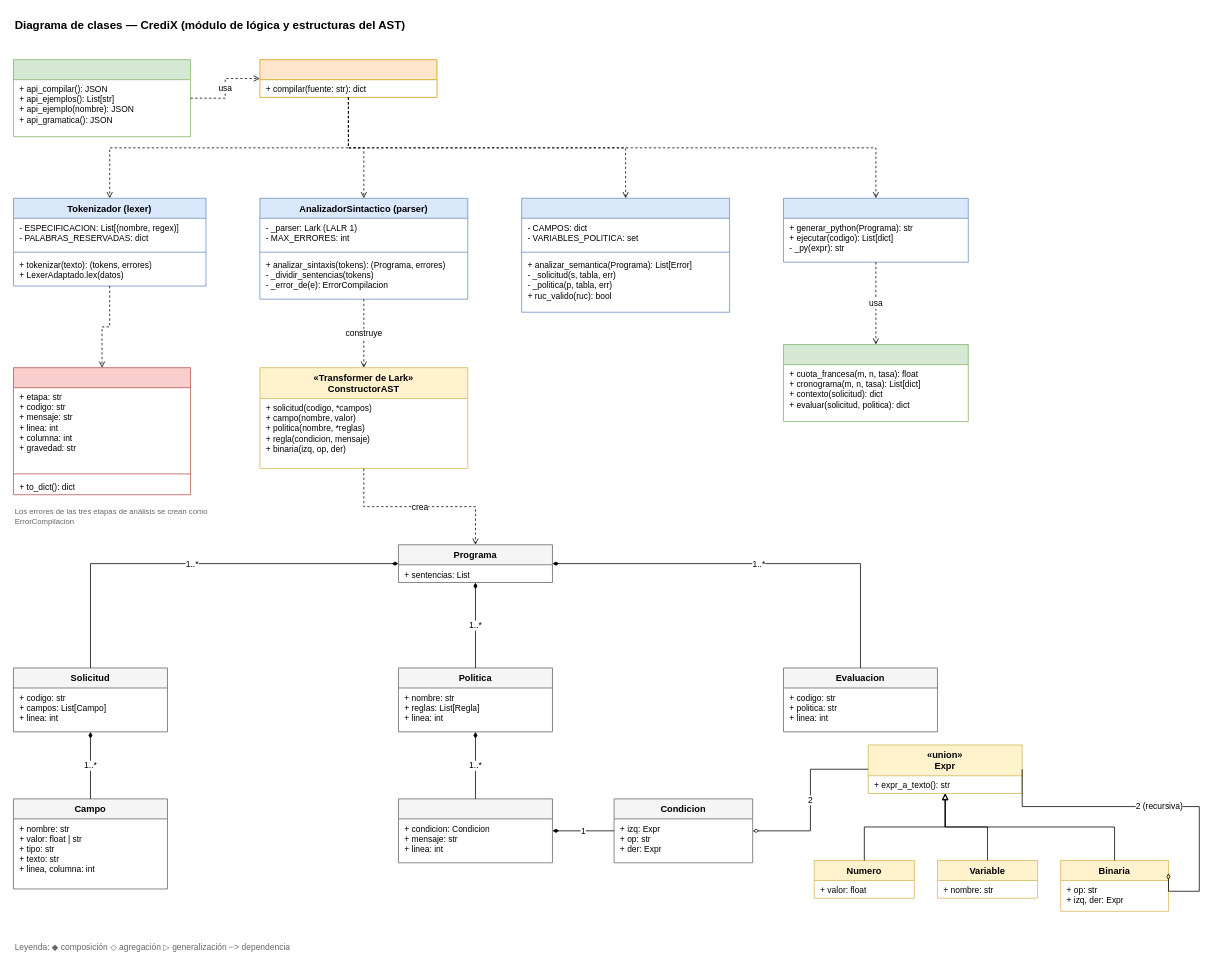
Image size: 1219x967. Some labels were removed from this diagram. Here are the shapes that lost their labels. From the top down, the box of each, then its label:
(13, 59, 191, 137): AppFlask (backend)
(259, 59, 437, 97): Compilador
(783, 198, 968, 262): GeneradorPython
(521, 198, 730, 312): AnalizadorSemantico
(783, 344, 968, 422): Runtime
(13, 367, 191, 495): ErrorCompilacion
(398, 798, 552, 863): Regla
